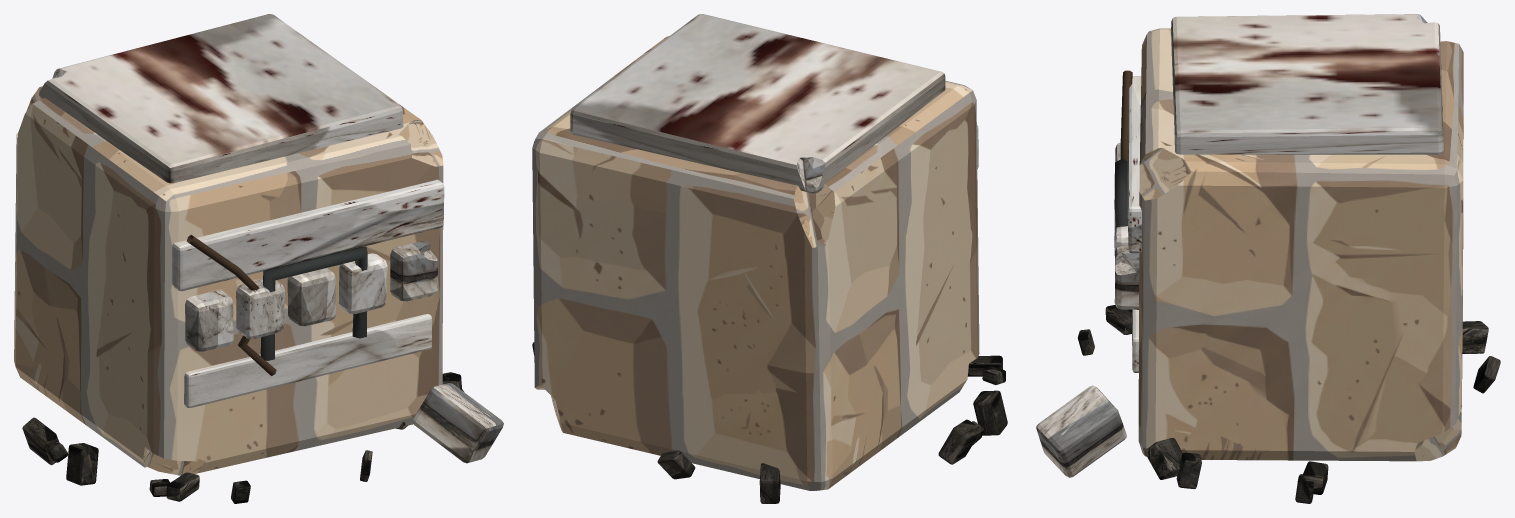
The model's file is ruin_block_110_LOD0.glb.
The picture shows the model from 3 angles, left to right: view 1: azimuth 30°, elevation 25°; view 2: azimuth 150°, elevation 25°; view 3: azimuth 270°, elevation 25°; orthographic projection. The views are drawn at different scales.
Parts seen in each view (by area): view 1: ToppledEntablatureBlock, TraversalTopSlab, EntablatureUpperBand, EntablatureLowerBand, FallenDentil, SurvivingDentil, SurvivingDentil.004, SurvivingDentil.002, SurvivingDentil.001, SurvivingDentil.003, AncientRepairClamp, EntablatureChip.011 (+3 smaller); view 2: ToppledEntablatureBlock, TraversalTopSlab, EntablatureChip.011, EntablatureChip.003, EntablatureChip.006, EntablatureChip; view 3: ToppledEntablatureBlock, TraversalTopSlab, FallenDentil, EntablatureUpperBand, SurvivingDentil.004, EntablatureChip.012, AncientRepairClamp, EntablatureChip.006, EntablatureChip.013, DeepEntablatureCrack, EntablatureChip, EntablatureChip.009 (+1 smaller).
Boxes of the visible parts, x1=… form: ToppledEntablatureBlock: x1=14, y1=45, x2=443, y2=475; TraversalTopSlab: x1=39, y1=14, x2=403, y2=183; EntablatureUpperBand: x1=172, y1=179, x2=444, y2=291; EntablatureLowerBand: x1=184, y1=314, x2=431, y2=408; FallenDentil: x1=412, y1=383, x2=503, y2=463; SurvivingDentil: x1=185, y1=290, x2=233, y2=351; SurvivingDentil.004: x1=390, y1=241, x2=437, y2=301; SurvivingDentil.002: x1=287, y1=268, x2=335, y2=326; SurvivingDentil.001: x1=236, y1=279, x2=284, y2=339; SurvivingDentil.003: x1=338, y1=253, x2=387, y2=313; AncientRepairClamp: x1=260, y1=246, x2=367, y2=360; EntablatureChip.011: x1=66, y1=443, x2=98, y2=485; ToppledEntablatureBlock: x1=532, y1=36, x2=979, y2=490; TraversalTopSlab: x1=570, y1=14, x2=945, y2=193; EntablatureChip.011: x1=973, y1=390, x2=1007, y2=435; EntablatureChip.003: x1=938, y1=419, x2=980, y2=464; EntablatureChip.006: x1=759, y1=463, x2=780, y2=503; EntablatureChip: x1=657, y1=450, x2=695, y2=479; ToppledEntablatureBlock: x1=1138, y1=28, x2=1463, y2=461; TraversalTopSlab: x1=1171, y1=14, x2=1443, y2=154; FallenDentil: x1=1036, y1=385, x2=1126, y2=477; EntablatureUpperBand: x1=1127, y1=76, x2=1141, y2=253; SurvivingDentil.004: x1=1114, y1=245, x2=1139, y2=309; EntablatureChip.012: x1=1145, y1=438, x2=1182, y2=479; AncientRepairClamp: x1=1115, y1=158, x2=1127, y2=228; EntablatureChip.006: x1=1462, y1=321, x2=1488, y2=353; EntablatureChip.013: x1=1176, y1=452, x2=1201, y2=488; DeepEntablatureCrack: x1=1120, y1=70, x2=1132, y2=160; EntablatureChip: x1=1473, y1=356, x2=1500, y2=393; EntablatureChip.009: x1=1302, y1=461, x2=1328, y2=494.
Bounding box in the file's own units: 1.61 × 1.2 × 1.52.
5 materials, 3 textured.
